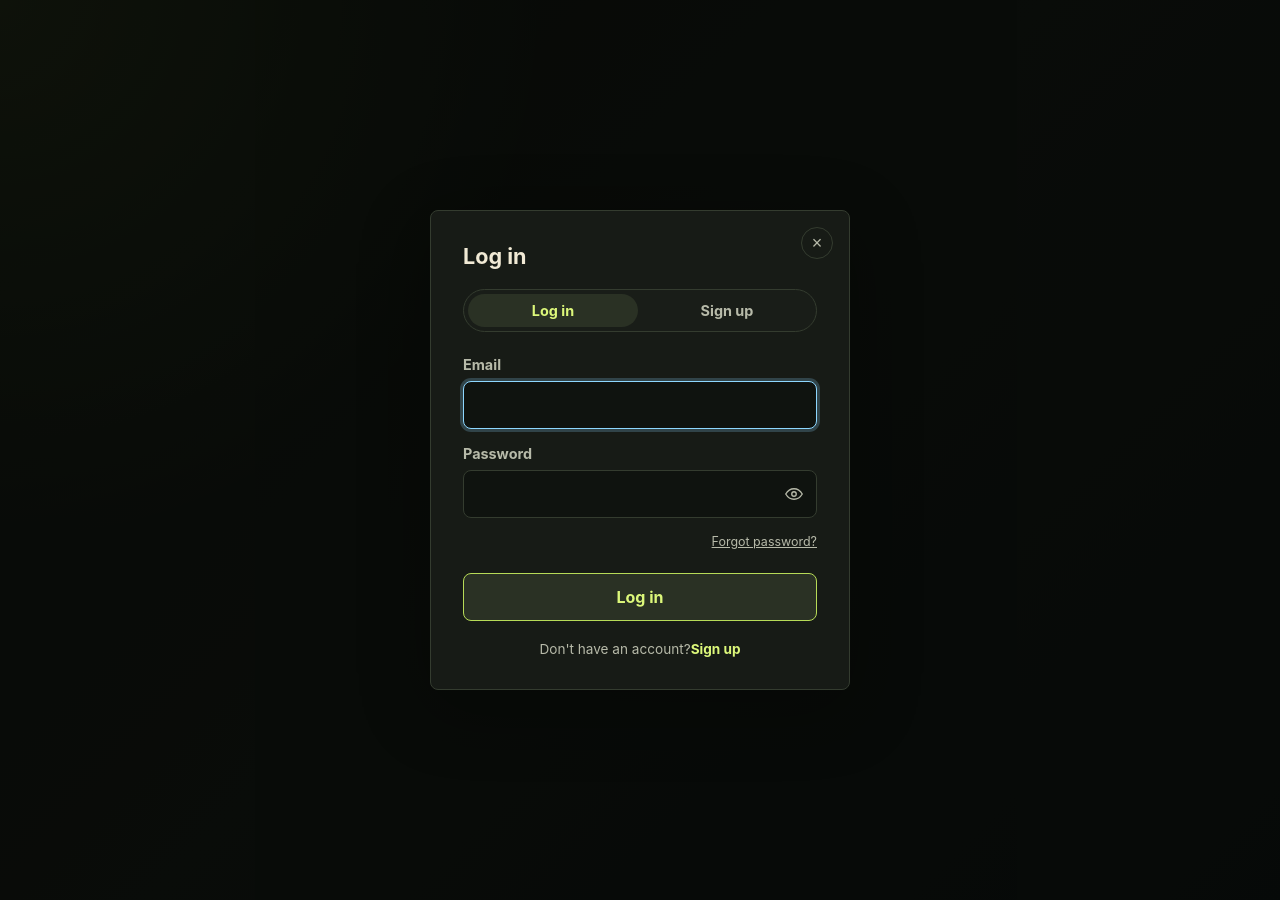
Test: AuthModal — forgot password › switches to the forgot-password screen and back via 'Back to log in'
The image size is (1280, 900).
Click the link "Forgot password?". click: click(764, 542)
box: [712, 534, 817, 549]
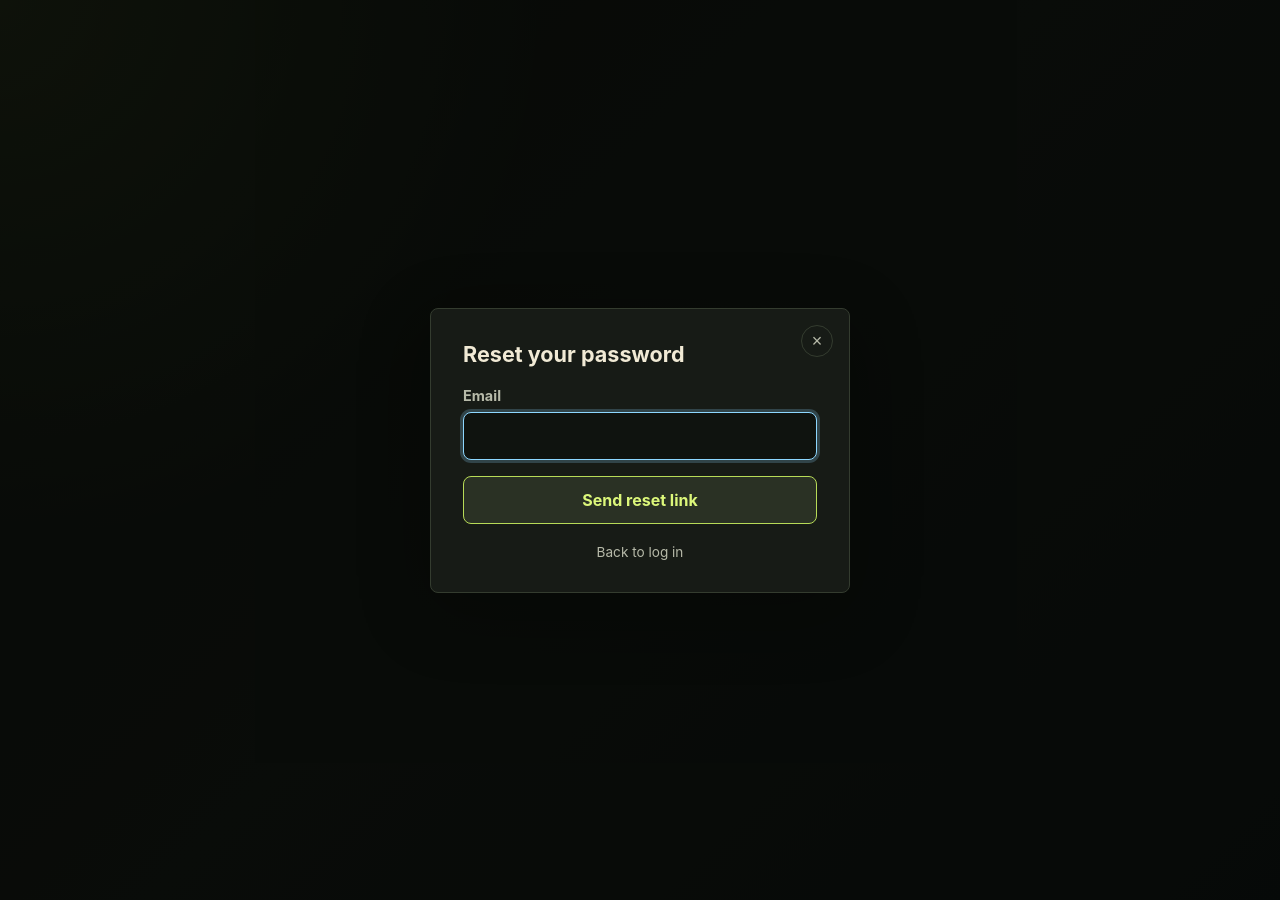
Result: the heading "Reset your password" is shown at [463, 340, 685, 366]
Click the button "Back to log in". click: click(640, 552)
box: [597, 544, 683, 560]
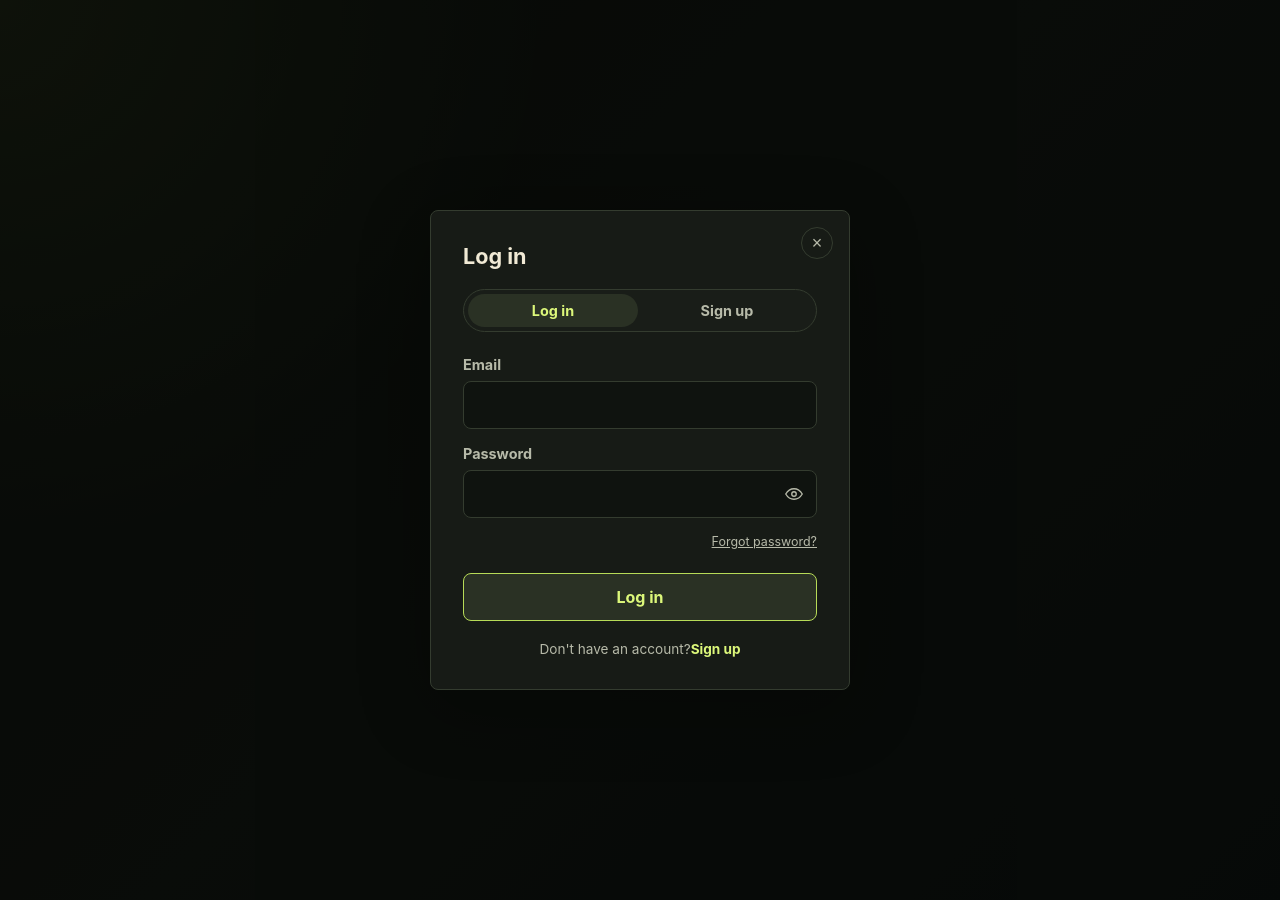
Result: the heading "Log in" is shown at [463, 243, 526, 269]
